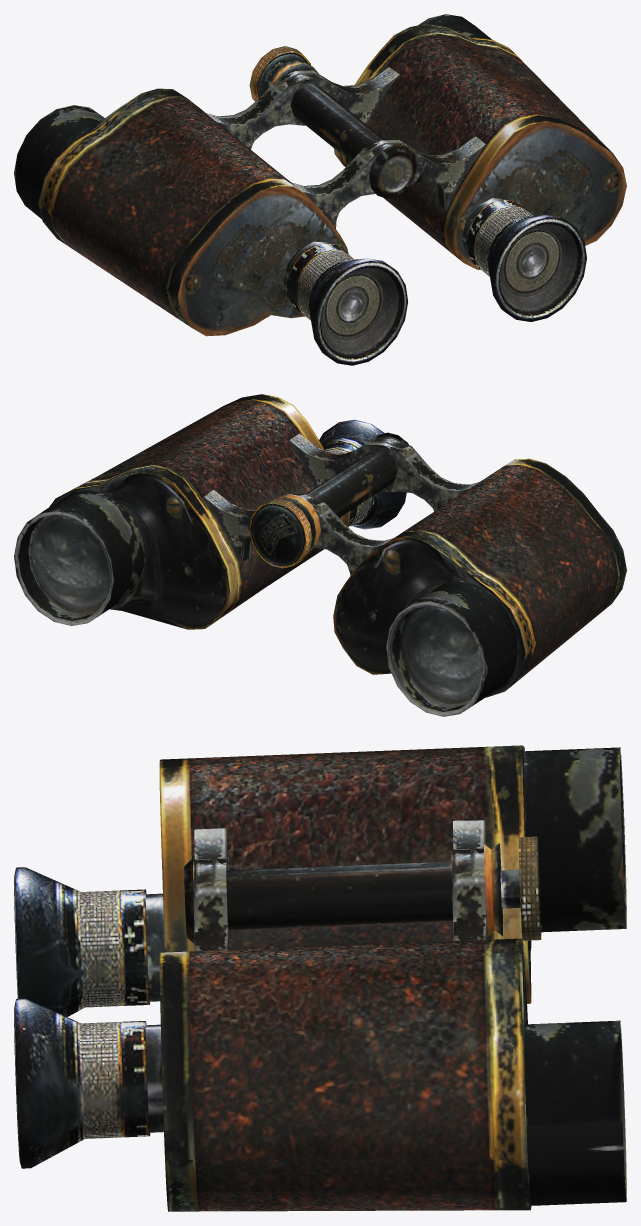
The model's file is binoculars.FBX.
3 views of the same model, one above another, from view 1: azimuth 30°, elevation 25°; view 2: azimuth 150°, elevation 25°; view 3: azimuth 270°, elevation 25° (orthographic). The views are drawn at different scales.
Visible parts, largest first — view 1: objBinoculars; view 2: objBinoculars; view 3: objBinoculars.
Part boxes in pixels (x1=…): objBinoculars: x1=14, y1=14, x2=626, y2=365; objBinoculars: x1=14, y1=394, x2=626, y2=716; objBinoculars: x1=14, y1=745, x2=626, y2=1211.
Size of the model in its own units: 0.2912 by 0.2107 by 0.0964.
